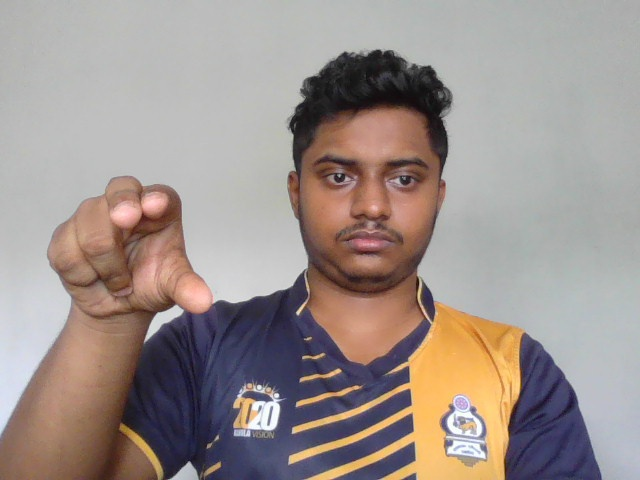No: (47, 176, 213, 323)
